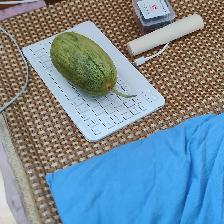gua: (57, 36, 115, 94)
